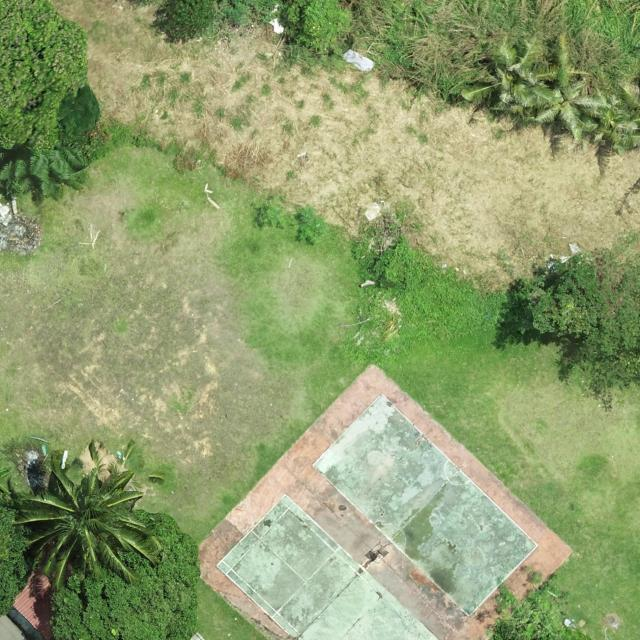Tree: (12, 438, 168, 586), (49, 509, 200, 640), (528, 248, 640, 392), (0, 0, 90, 157), (531, 32, 620, 145), (460, 36, 558, 118), (0, 138, 91, 208), (0, 504, 39, 626), (601, 74, 640, 179), (0, 455, 10, 505)
